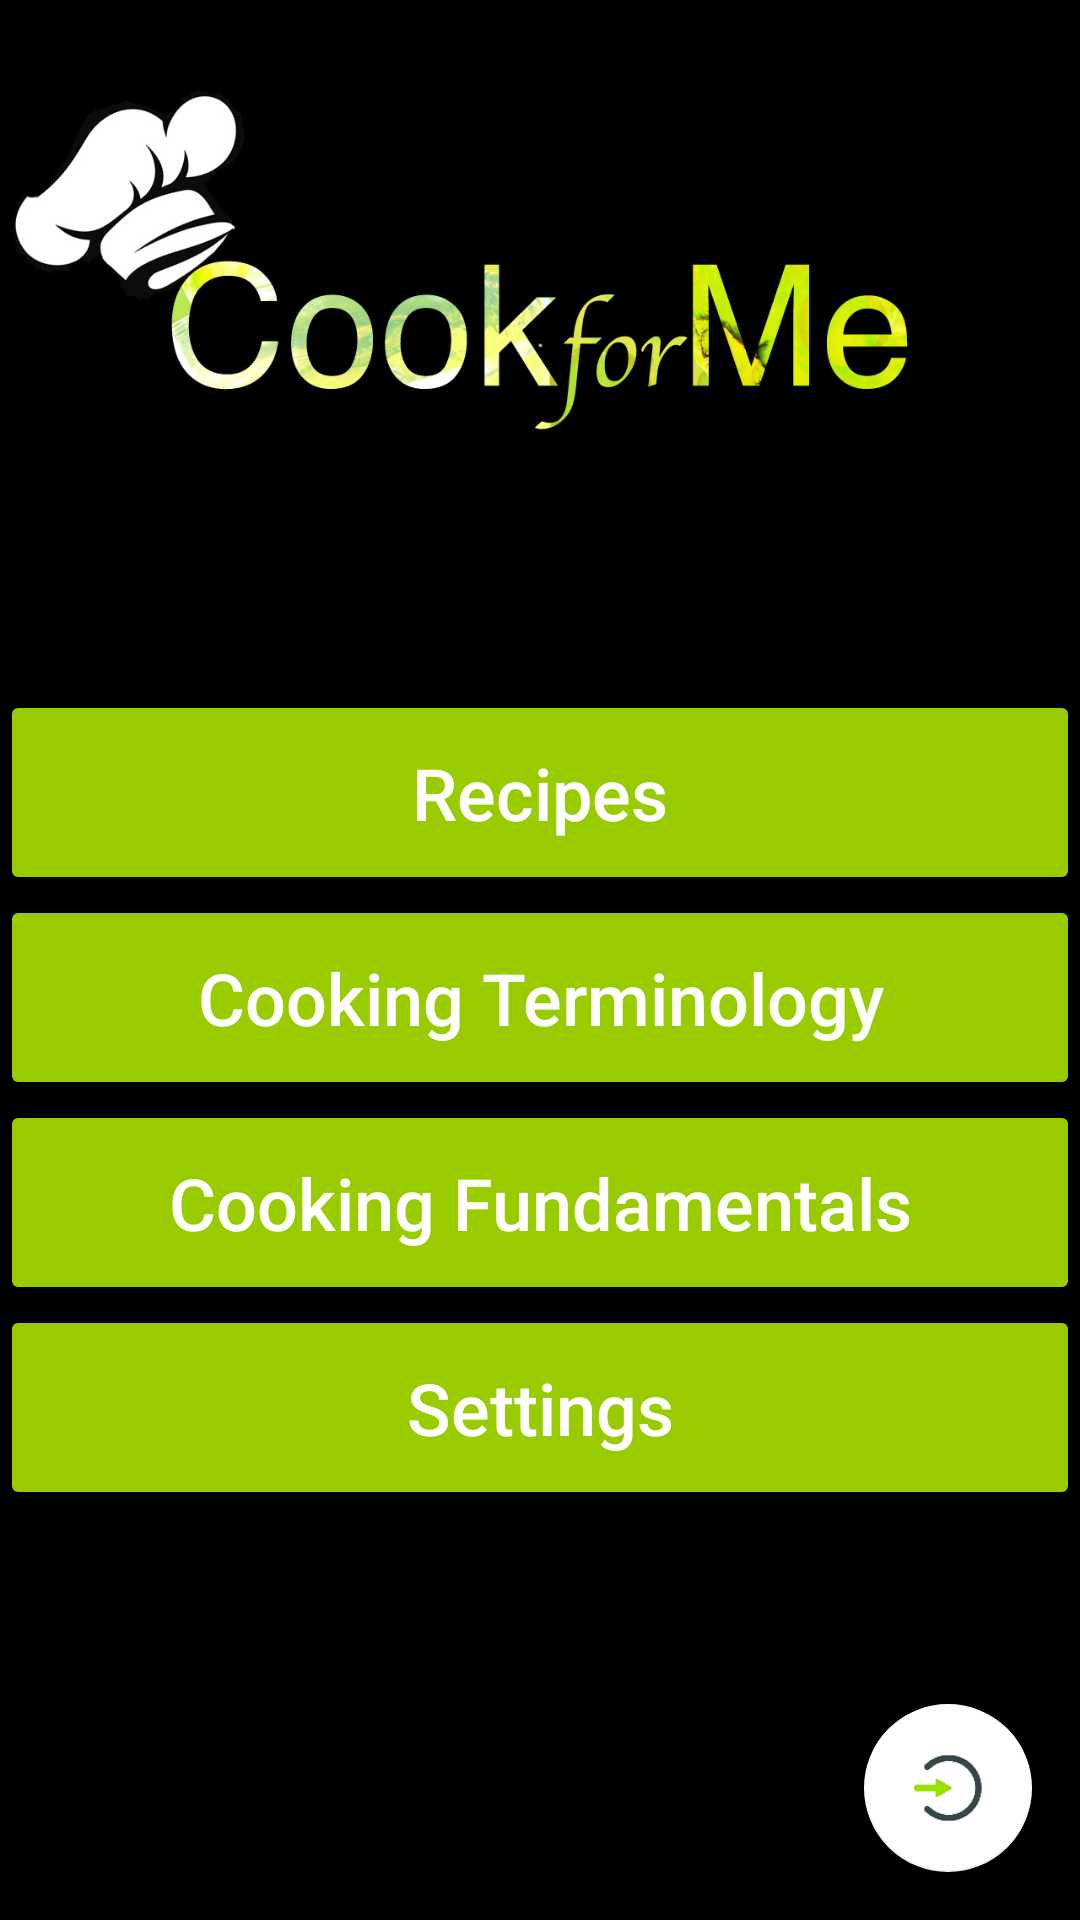

Where to tap for icons on this 1080 x 1920 app screen, as point (x, y):
login: point (948, 1788)
